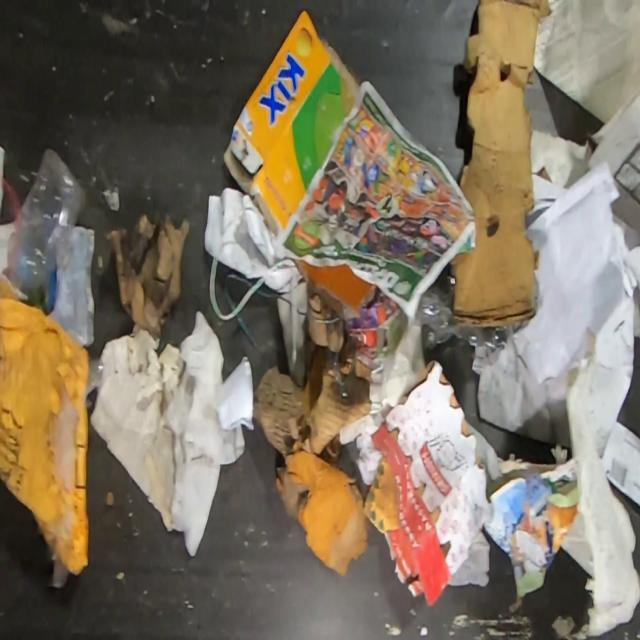cardboard: (355, 352, 494, 607), (451, 0, 551, 328), (219, 12, 358, 245), (0, 266, 92, 581), (252, 259, 374, 464), (274, 450, 403, 577), (100, 209, 194, 342)
rigid_plastic: (4, 144, 90, 287), (412, 275, 534, 350)
